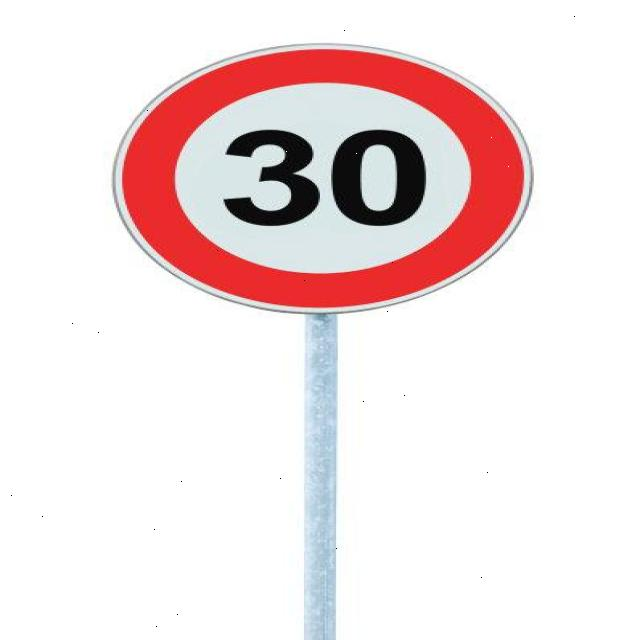speed limit 30: (104, 41, 536, 318)
